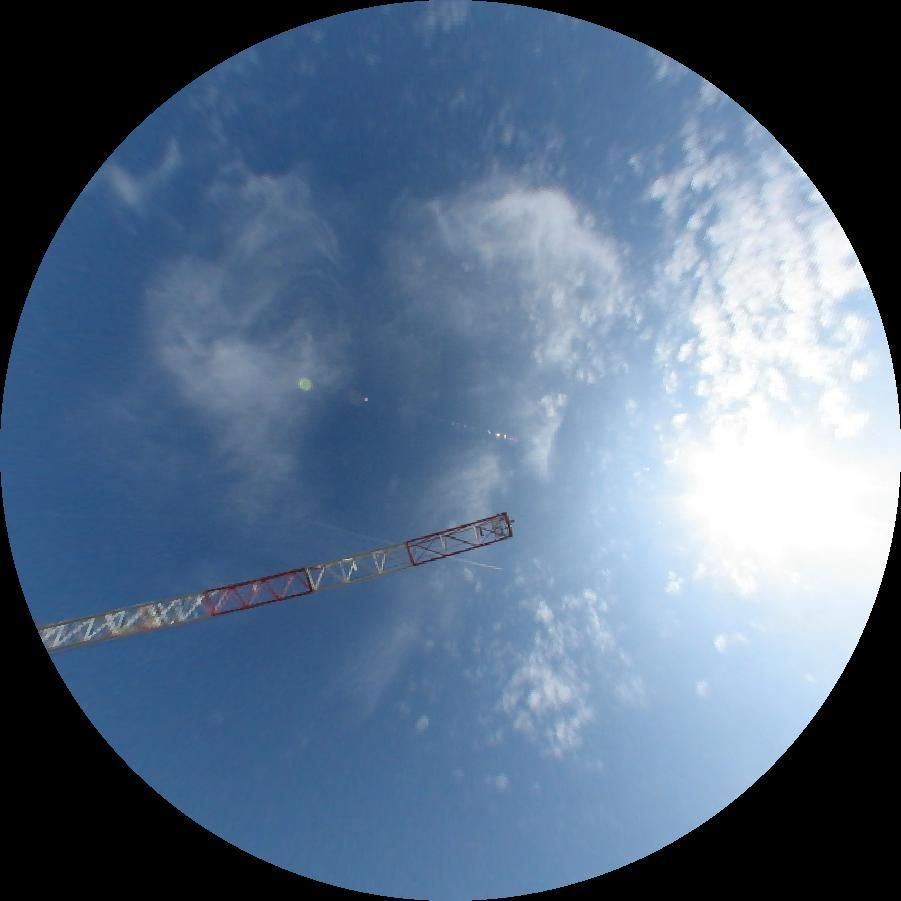contrail young: (232, 497, 502, 575)
sun: (703, 443, 899, 592)
